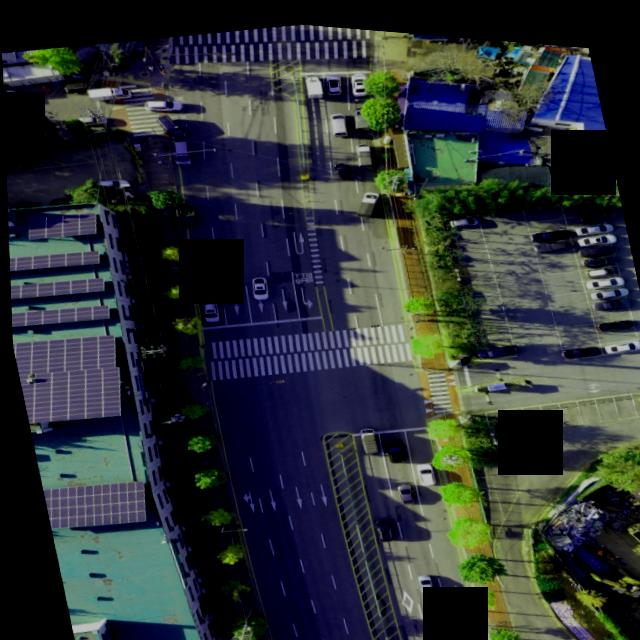car: (154, 107, 187, 139), (527, 213, 574, 235), (528, 226, 576, 247), (572, 196, 617, 216), (473, 333, 514, 354), (168, 133, 194, 164), (589, 283, 629, 303), (92, 171, 133, 190), (572, 231, 615, 249), (325, 104, 350, 134), (143, 93, 182, 112), (559, 332, 599, 350), (579, 251, 616, 270), (4, 146, 27, 176), (602, 327, 640, 345), (593, 305, 631, 323), (345, 63, 370, 90), (573, 208, 612, 225), (575, 221, 614, 238), (589, 273, 625, 290), (584, 263, 621, 279), (327, 153, 352, 176), (578, 242, 613, 258), (247, 268, 268, 294), (78, 108, 106, 126), (382, 431, 402, 455), (413, 455, 433, 478), (371, 509, 389, 534), (201, 296, 219, 319), (323, 66, 341, 89), (393, 474, 411, 495), (448, 206, 475, 220), (412, 565, 429, 586), (3, 86, 19, 101)
small_truck: (85, 78, 133, 103), (347, 183, 382, 214), (354, 417, 380, 450), (302, 66, 328, 96), (349, 94, 373, 126), (351, 133, 374, 162), (174, 197, 195, 225)
